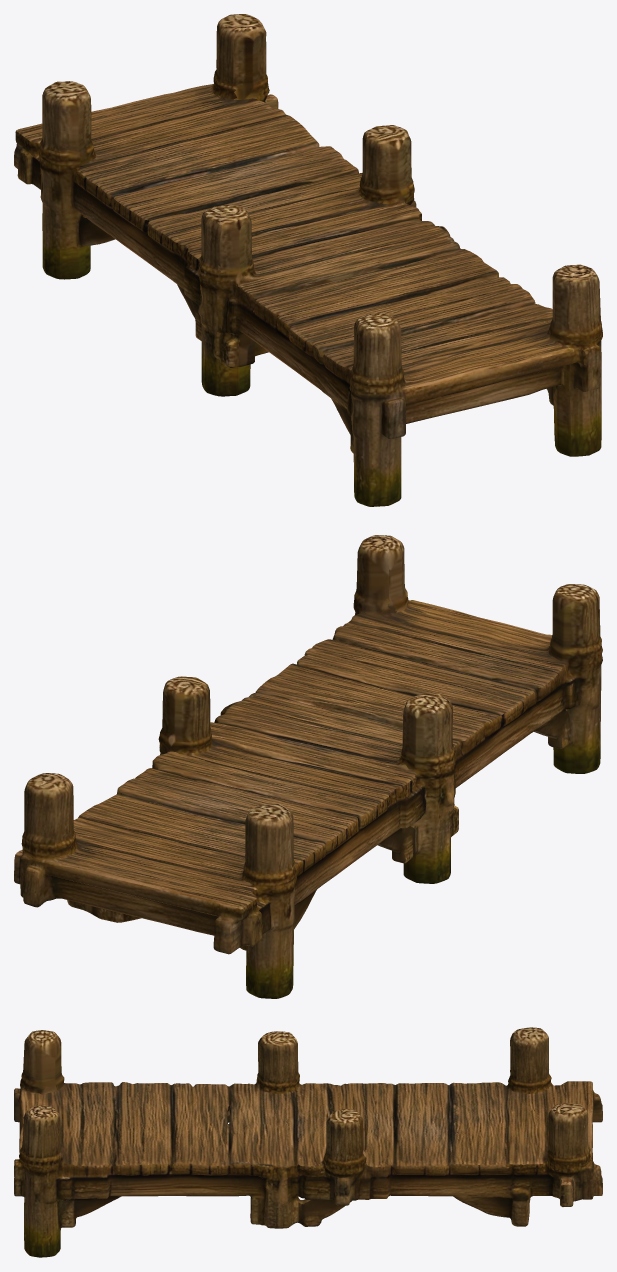
File: wooden-dock.web.glb
The picture shows the model from 3 angles, top to bottom: view 1: azimuth 30°, elevation 25°; view 2: azimuth 150°, elevation 25°; view 3: azimuth 270°, elevation 25°; orthographic projection. The views are drawn at different scales.
Visible parts, largest first — view 1: painted; view 2: painted; view 3: painted.
Part boxes in pixels (bbox=[...]): painted: bbox=[14, 14, 602, 506]; painted: bbox=[14, 535, 602, 998]; painted: bbox=[14, 1027, 602, 1257].
Size of the model in its own units: 0.7948 by 0.5354 by 1.99.
1 material, 1 textured.
